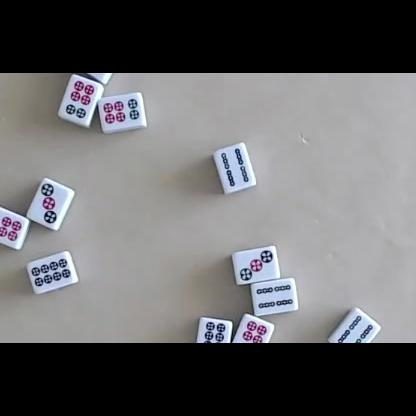3p: (240, 250, 273, 281), (40, 183, 58, 223)
4s: (221, 148, 249, 187), (338, 315, 373, 343), (256, 284, 293, 309)
6p: (66, 80, 95, 119), (102, 99, 140, 124), (237, 320, 267, 343), (0, 210, 22, 241)
8p: (31, 258, 71, 287), (201, 321, 226, 343)
